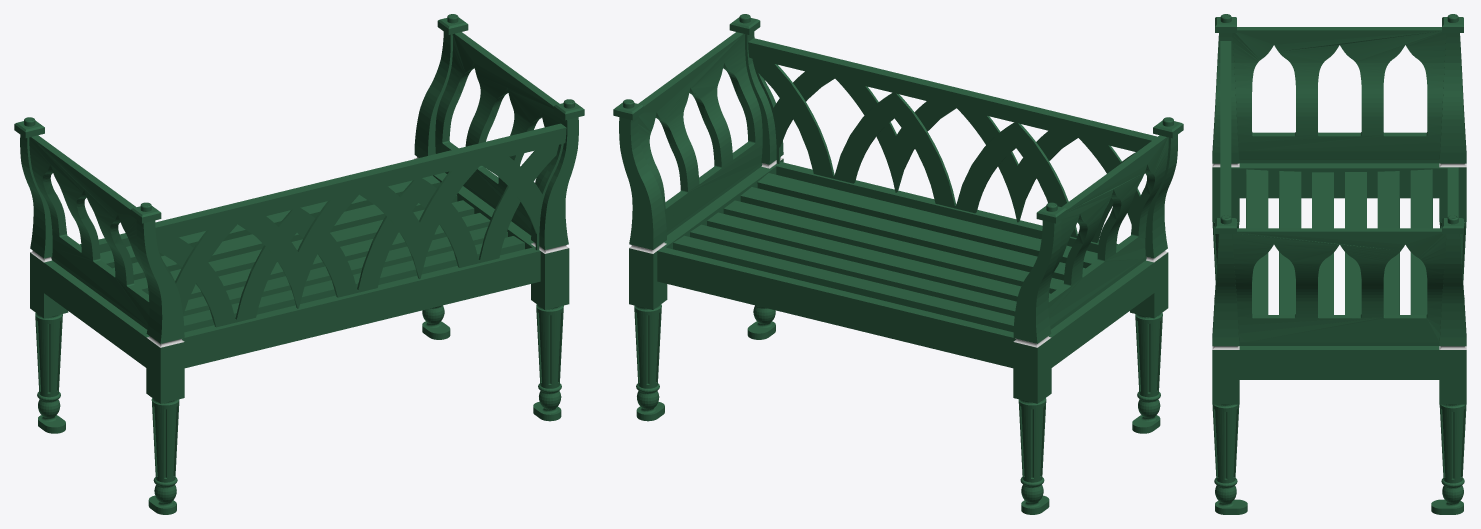
The picture shows the model from 3 angles, left to right: view 1: azimuth 30°, elevation 25°; view 2: azimuth 150°, elevation 25°; view 3: azimuth 270°, elevation 25°; orthographic projection. The views are drawn at different scales.
Parts seen in each view (by area): view 1: mesh75_mesh75-geometry; view 2: mesh75_mesh75-geometry; view 3: mesh75_mesh75-geometry, mesh78_mesh78-geometry, mesh80_mesh80-geometry.
Part boxes in pixels (<box>): mesh75_mesh75-geometry: <box>14,14,584,503</box>; mesh75_mesh75-geometry: <box>613,14,1183,503</box>; mesh75_mesh75-geometry: <box>1212,14,1466,503</box>; mesh78_mesh78-geometry: <box>1215,499,1247,514</box>; mesh80_mesh80-geometry: <box>1431,499,1463,514</box>.
Bounding box in the file's own units: 0.7646 × 0.5124 × 0.3908.
